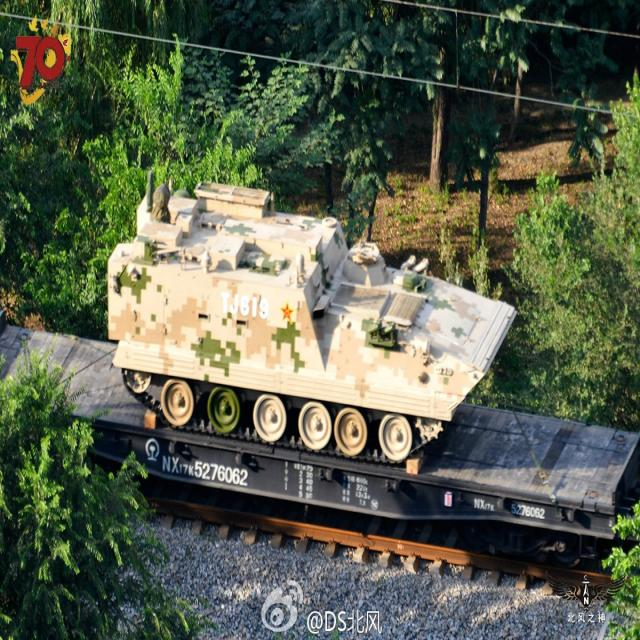tank: (106, 173, 518, 472)
